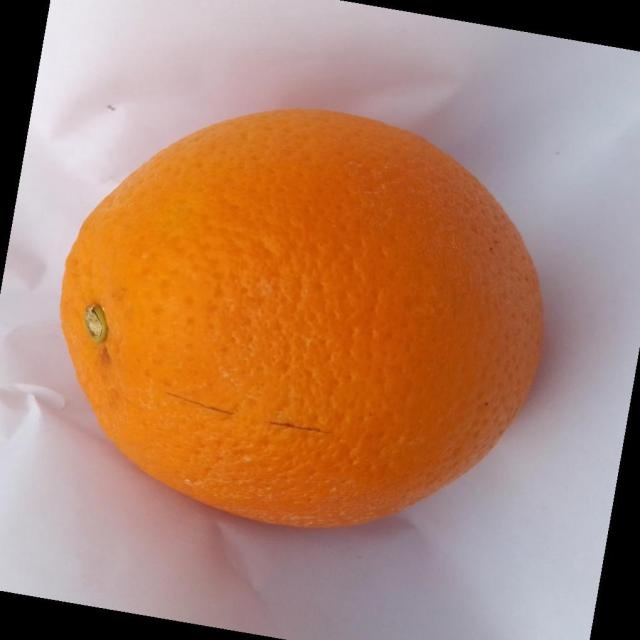agrume: (58, 106, 545, 530)
